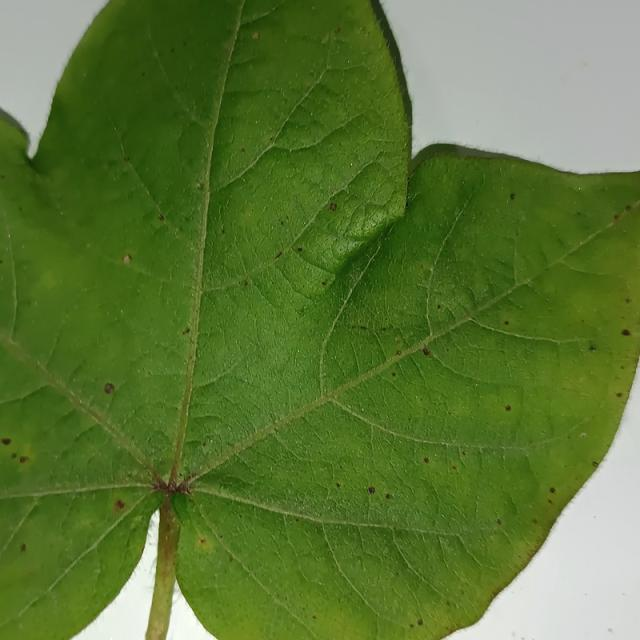Bacterial_Blight: (153, 477, 193, 498), (499, 394, 523, 422), (98, 378, 122, 397), (151, 479, 170, 494), (293, 341, 305, 354), (122, 254, 132, 264), (115, 500, 125, 510), (422, 347, 431, 356), (620, 328, 630, 336), (367, 486, 376, 494), (329, 202, 337, 211), (1, 438, 11, 445), (275, 251, 283, 259), (252, 32, 260, 40), (19, 456, 28, 463), (158, 213, 165, 221), (588, 344, 596, 351), (196, 181, 203, 189), (228, 442, 235, 450), (20, 543, 26, 552), (183, 327, 190, 334), (334, 27, 340, 35), (297, 246, 303, 253), (423, 457, 429, 464), (243, 280, 249, 287), (509, 193, 515, 200), (614, 214, 621, 220), (625, 205, 632, 211), (417, 619, 423, 626), (166, 523, 171, 531), (505, 405, 511, 411), (385, 493, 391, 499), (396, 350, 402, 356), (549, 487, 555, 493), (496, 519, 502, 525), (124, 156, 130, 162), (592, 461, 598, 467), (532, 518, 538, 524), (336, 482, 341, 489), (625, 298, 632, 303), (616, 392, 623, 397), (437, 304, 442, 310), (200, 538, 205, 544), (321, 281, 327, 286), (178, 470, 183, 476), (11, 453, 17, 458), (620, 365, 626, 370), (548, 499, 553, 505), (229, 555, 233, 562), (504, 320, 509, 325), (391, 372, 396, 377), (240, 148, 245, 153), (452, 465, 457, 470), (409, 624, 414, 629), (462, 451, 467, 456), (312, 615, 317, 620), (295, 517, 300, 522), (280, 220, 284, 226), (222, 228, 226, 234), (0, 259, 4, 265), (269, 136, 273, 141)
Cotton: (0, 0, 639, 639)
